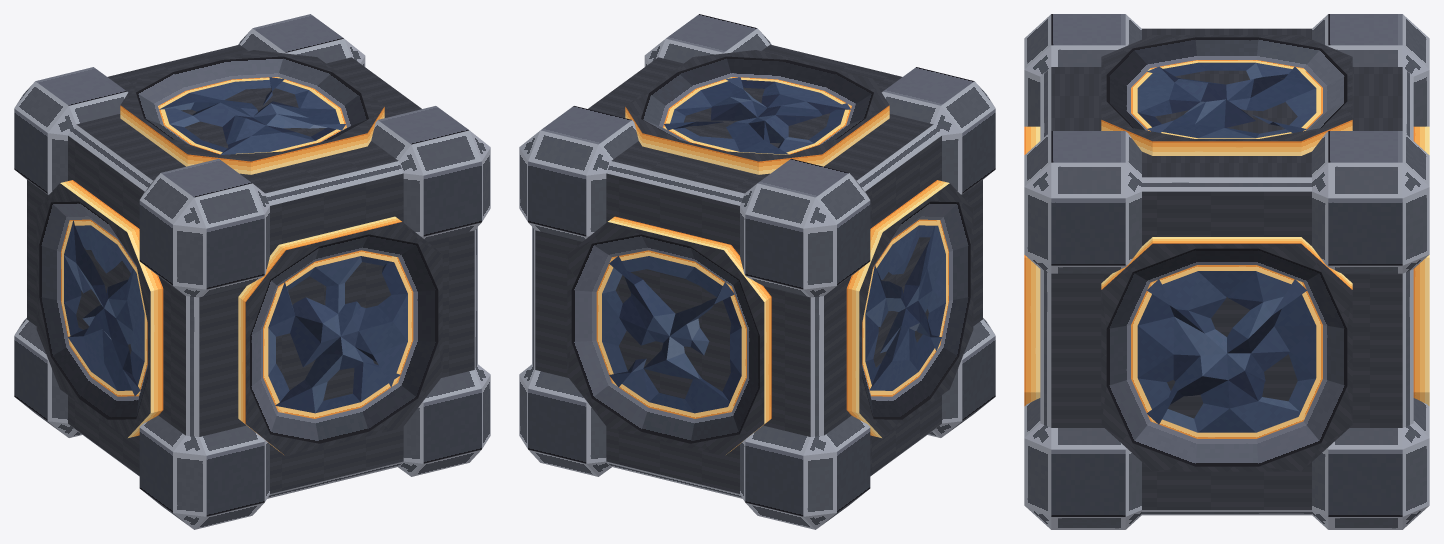
File: marlit_octo.glb
3 views of the same model, side by side, from view 1: azimuth 30°, elevation 25°; view 2: azimuth 150°, elevation 25°; view 3: azimuth 270°, elevation 25° (orthographic). The views are drawn at different scales.
Visible parts, largest first — view 1: marlit_octo_body; view 2: marlit_octo_body; view 3: marlit_octo_body.
Part boxes in pixels (x1=…): marlit_octo_body: x1=14, y1=14, x2=490, y2=529; marlit_octo_body: x1=519, y1=14, x2=995, y2=529; marlit_octo_body: x1=1024, y1=14, x2=1429, y2=529.
Size of the model in its own units: 3 by 3 by 3.
Materials: 1 (1 with a texture image).
